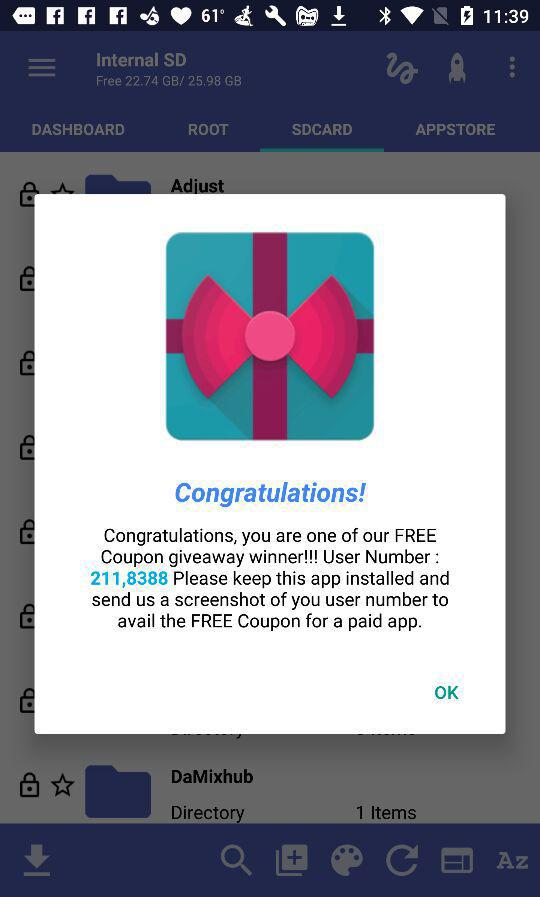Icon: (386, 843, 420, 877), (276, 843, 309, 877), (221, 844, 253, 877), (24, 843, 52, 877), (440, 846, 474, 874), (51, 772, 76, 798), (28, 59, 57, 79), (20, 772, 41, 798), (509, 57, 517, 80)
Image: (166, 232, 375, 442), (85, 765, 152, 819), (330, 844, 364, 877), (386, 52, 419, 86), (448, 52, 466, 85)
Modal: (34, 194, 507, 735)
Text: (90, 527, 451, 633), (175, 481, 368, 509), (97, 75, 242, 88), (97, 52, 188, 69), (172, 805, 245, 823), (172, 768, 254, 784), (32, 124, 126, 137), (416, 124, 496, 137), (357, 805, 416, 820), (292, 124, 352, 137), (496, 852, 529, 870), (188, 124, 229, 137), (434, 685, 460, 701)
UpperTaskBar: (1, 1, 540, 33)
